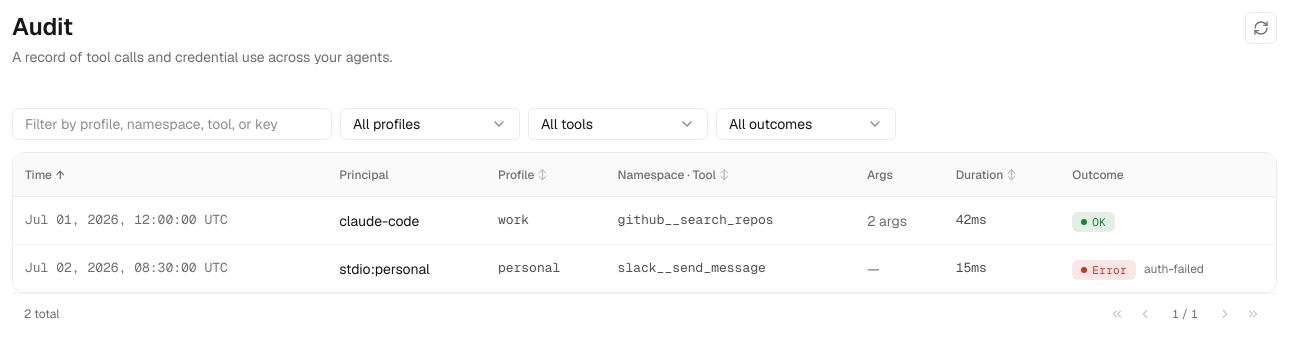
Scenario: AuditPage — filters narrow visible rows › the search box filters rows by text (tool name)
This screenshot has width=1292, height=337.
In the search field named "search audit entries": {"x": 172, "y": 124} [12, 108, 332, 140], type "send_message"
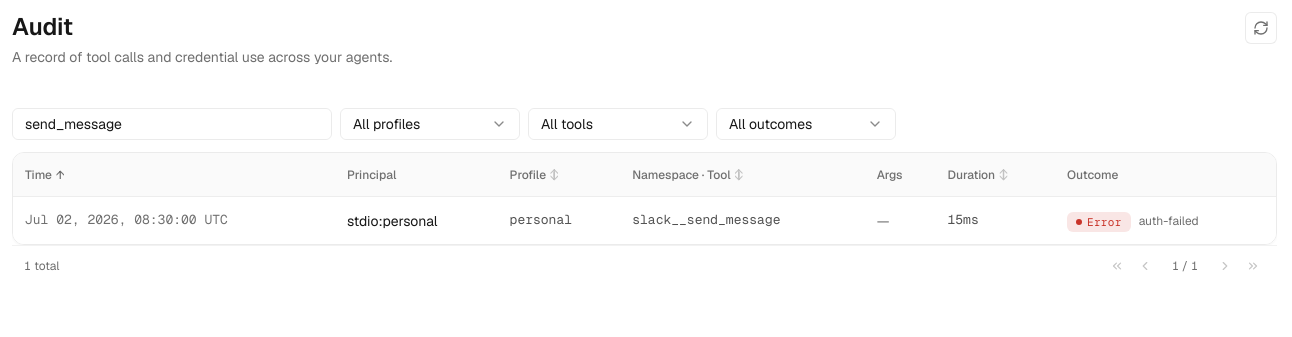
Expected: the table shows "personal", [510, 212, 572, 228]
Expected: the text "work" is gone
